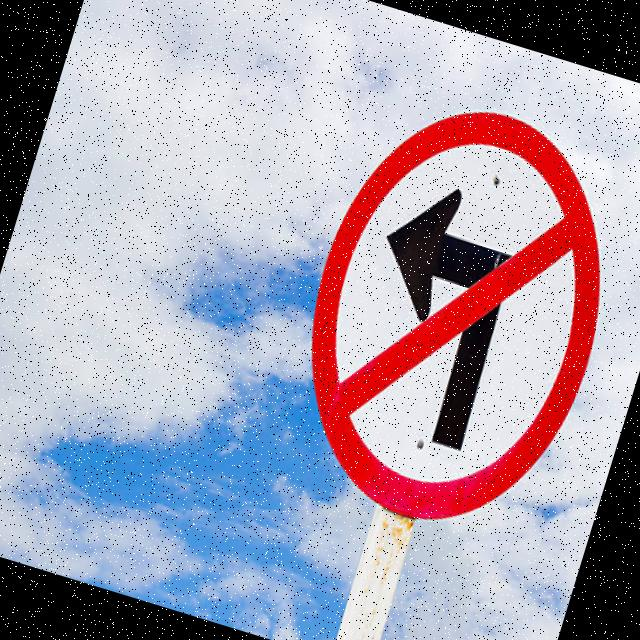do_not_turn_right: (251, 67, 640, 564)
